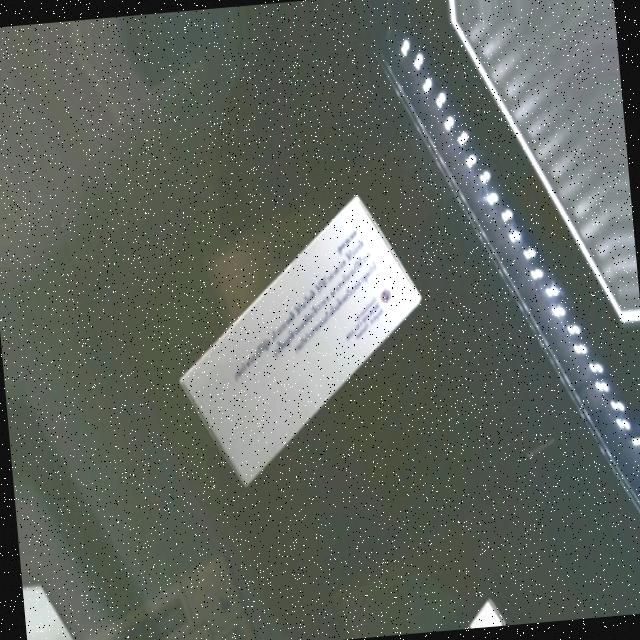sefloc: (154, 191, 442, 486)
